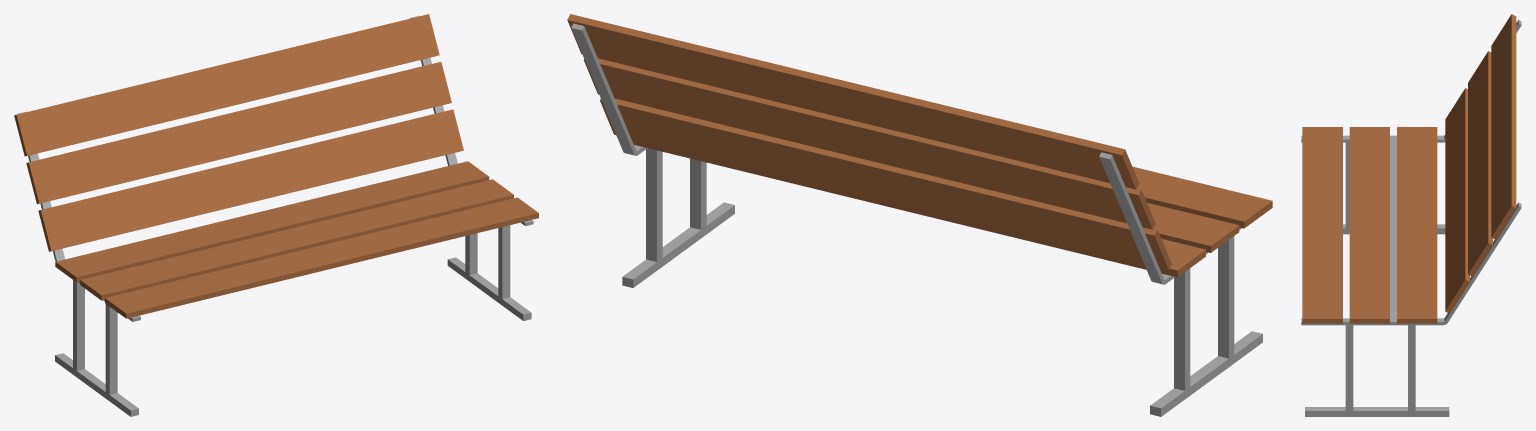
File: lavochka.fbx
3 views of the same model, side by side, from view 1: azimuth 30°, elevation 25°; view 2: azimuth 150°, elevation 25°; view 3: azimuth 270°, elevation 25° (orthographic). The views are drawn at different scales.
Parts seen in each view (by area): view 1: LAVOCHKA, lavochka_cell.010, lavochka_cell.009, lavochka_cell.015, lavochka_cell.016, lavochka_cell.017, lavochka_cell.001, lavochka_cell.005, lavochka_cell, lavochka_cell.007, lavochka_cell.004, lavochka_cell.003 (+7 smaller); view 2: LAVOCHKA, lavochka_cell.010, lavochka_cell.002, lavochka_cell.003, lavochka_cell.009, lavochka_cell.017, lavochka_cell.016, lavochka_cell.018, lavochka_cell.004; view 3: LAVOCHKA, lavochka_cell.005, lavochka_cell.010, lavochka_cell.009, lavochka_cell.004, lavochka_cell.008, lavochka_cell, lavochka_cell.015, lavochka_cell.016, lavochka_cell.017, lavochka_cell.001, lavochka_cell.002 (+5 smaller).
Boxes of the visible parts, box(x1,y1,x2,y2) form: LAVOCHKA: box(18, 18, 538, 416); lavochka_cell.010: box(160, 14, 439, 115); lavochka_cell.009: box(195, 62, 451, 157); lavochka_cell.015: box(41, 164, 256, 251); lavochka_cell.016: box(26, 122, 224, 203); lavochka_cell.017: box(14, 80, 189, 156); lavochka_cell.001: box(229, 109, 457, 194); lavochka_cell.005: box(261, 161, 489, 231); lavochka_cell: box(282, 179, 513, 249); lavochka_cell.007: box(255, 125, 463, 200); lavochka_cell.004: box(56, 211, 267, 282); lavochka_cell.003: box(80, 238, 304, 300); LAVOCHKA: box(567, 20, 1272, 416); lavochka_cell.010: box(567, 14, 932, 107); lavochka_cell.002: box(628, 163, 734, 287); lavochka_cell.003: box(1147, 203, 1238, 245); lavochka_cell.009: box(584, 58, 917, 140); lavochka_cell.017: box(929, 102, 1134, 184); lavochka_cell.016: box(915, 136, 1148, 218); lavochka_cell.018: box(1100, 152, 1197, 408); lavochka_cell.004: box(1162, 241, 1205, 270); LAVOCHKA: box(1301, 21, 1521, 416); lavochka_cell.005: box(1397, 220, 1437, 323); lavochka_cell.010: box(1491, 80, 1516, 239); lavochka_cell.009: box(1468, 128, 1492, 276); lavochka_cell.004: box(1397, 127, 1437, 222); lavochka_cell.008: box(1301, 135, 1463, 368); lavochka_cell: box(1349, 221, 1389, 323); lavochka_cell.015: box(1445, 88, 1467, 214); lavochka_cell.016: box(1468, 51, 1491, 168); lavochka_cell.017: box(1491, 14, 1516, 120); lavochka_cell.001: box(1448, 176, 1468, 294); lavochka_cell.002: box(1305, 366, 1449, 416).
Size of the model in its own units: 673 by 350 by 326.
